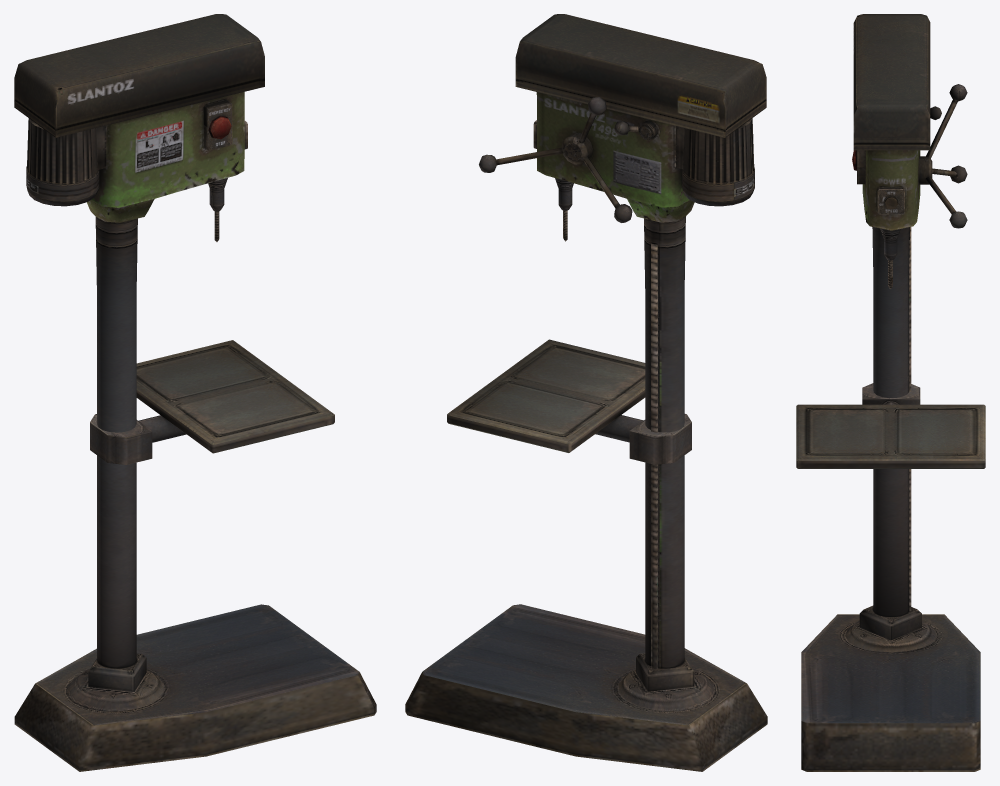
3 views of the same model, side by side, from view 1: azimuth 30°, elevation 25°; view 2: azimuth 150°, elevation 25°; view 3: azimuth 270°, elevation 25° (orthographic). The views are drawn at different scales.
Parts seen in each view (by area): view 1: LopolyAssy; view 2: LopolyAssy; view 3: LopolyAssy.
Boxes of the visible parts, x1,y1,x2,y2 form: LopolyAssy: [14, 14, 376, 771]; LopolyAssy: [405, 14, 767, 771]; LopolyAssy: [796, 14, 985, 771].
Bounding box in the file's own units: 34.21 × 73.72 × 20.19.
1 material, 1 textured.
